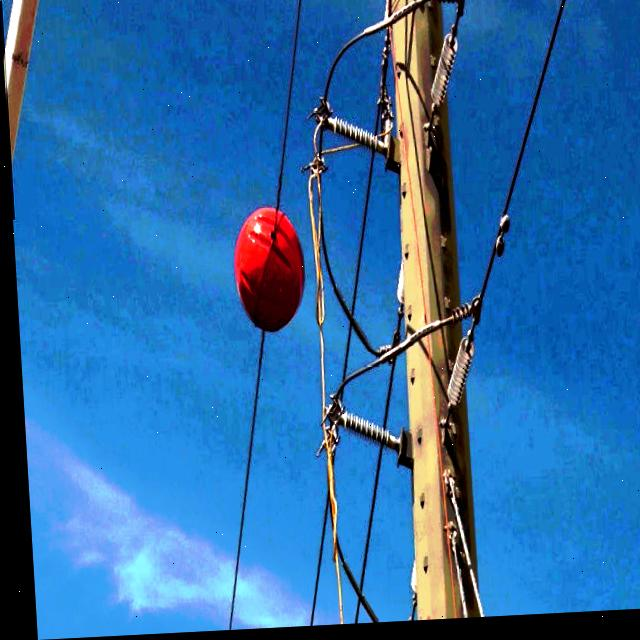poles: (383, 13, 453, 352), (401, 349, 461, 623)
wires: (481, 0, 570, 299), (218, 337, 262, 631), (231, 211, 299, 342), (271, 0, 304, 215), (301, 429, 329, 628), (342, 165, 369, 343)
